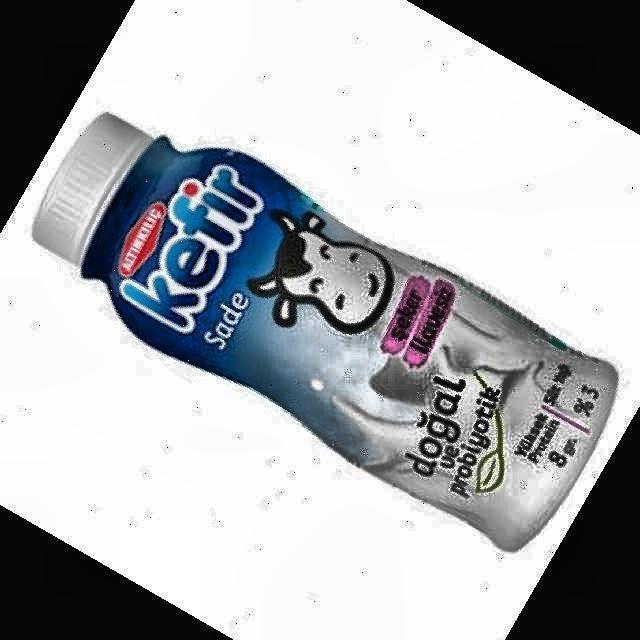plastic: (35, 114, 618, 549)
